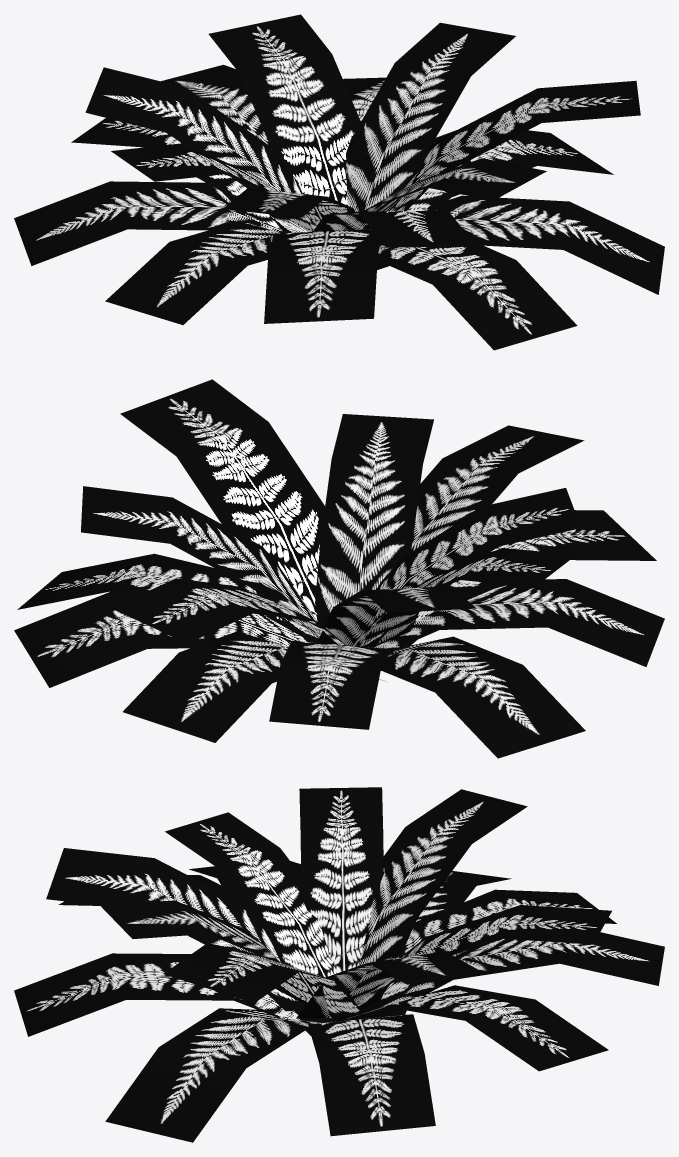
File: Fern Swamp.fbx
3 views of the same model, one above another, from view 1: azimuth 30°, elevation 25°; view 2: azimuth 150°, elevation 25°; view 3: azimuth 270°, elevation 25° (orthographic). The views are drawn at different scales.
Visible parts, largest first — view 1: Fern; view 2: Fern; view 3: Fern.
Part boxes in pixels (x1,y1,x2,y2): Fern: [14, 14, 664, 350]; Fern: [14, 379, 664, 758]; Fern: [14, 787, 664, 1142].
Size of the model in its own units: 3.1 by 0.8166 by 2.94.
